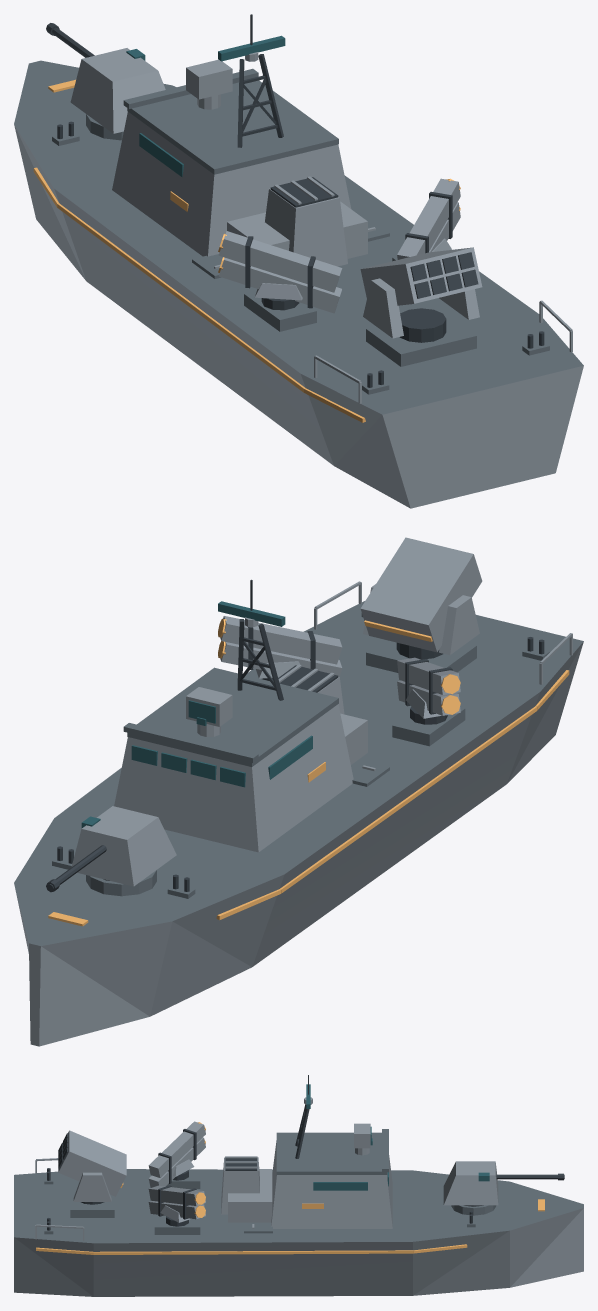
Rendered from ESC_STK_T1.fbx.
3 views of the same model, one above another, from view 1: azimuth 30°, elevation 25°; view 2: azimuth 150°, elevation 25°; view 3: azimuth 270°, elevation 25° (orthographic). The views are drawn at different scales.
Visible parts, largest first — view 1: ContinuousHull.013, Deckhouse.013, Roof.013, PrimaryGunCupola.013, FunnelEnclosure.013, MissileBankPortTube2, RocketEightCellHousing, RocketFoundation, AftEngineHouse, MissileBankStarboardTube2, MissileBankPortTube1, RoleHullStripe-1_1 (+10 smaller); view 2: ContinuousHull.013, Deckhouse.013, Roof.013, RocketEightCellHousing, PrimaryGunCupola.013, MissileBankStarboardTube2, RoleHullStripe-1_1, RocketFoundation, RocketYoke1, BridgeBrow, MissileBankPortFoundation, MissileBankStarboardTube1 (+8 smaller); view 3: ContinuousHull.013, Deckhouse.013, Roof.013, RocketEightCellHousing, PrimaryGunCupola.013, AftEngineHouse, RoleHullStripe1_1, MissileBankPortTube2, FunnelEnclosure.013, RocketYoke-1, RocketFoundation, MissileBankStarboardTube2 (+11 smaller).
Boxes of the visible parts, x1,y1,x2,y2 form: ContinuousHull.013: (14,60,583,508); Deckhouse.013: (112,112,351,256); Roof.013: (127,80,338,174); PrimaryGunCupola.013: (70,48,165,133); FunnelEnclosure.013: (265,188,347,266); MissileBankPortTube2: (218,231,342,292); RocketEightCellHousing: (360,247,482,305); RocketFoundation: (366,310,476,366); AftEngineHouse: (227,201,367,258); MissileBankStarboardTube2: (397,178,460,259); MissileBankPortTube1: (219,258,342,313); RoleHullStripe-1_1: (57,203,305,392); ContinuousHull.013: (14,601,583,1046); Deckhouse.013: (114,704,353,852); Roof.013: (127,667,338,766); RocketEightCellHousing: (360,537,482,652); PrimaryGunCupola.013: (71,806,176,886); MissileBankStarboardTube2: (220,616,342,664); RoleHullStripe-1_1: (279,706,536,893); RocketFoundation: (366,639,476,672); RocketYoke1: (439,595,479,655); BridgeBrow: (123,723,258,762); MissileBankPortFoundation: (392,707,465,746); MissileBankStarboardTube1: (220,642,342,676); ContinuousHull.013: (14,1169,583,1296); Deckhouse.013: (271,1140,392,1228); Roof.013: (276,1132,387,1174); RocketEightCellHousing: (58,1130,126,1196); PrimaryGunCupola.013: (443,1161,498,1205); AftEngineHouse: (228,1169,272,1222); RoleHullStripe1_1: (93,1250,412,1254); MissileBankPortTube2: (148,1121,205,1177); FunnelEnclosure.013: (221,1157,259,1214); RocketYoke-1: (73,1172,111,1201); RocketFoundation: (70,1186,114,1217); MissileBankStarboardTube2: (148,1185,205,1205).
Bounding box in the file's own units: 281 × 340 × 900.
